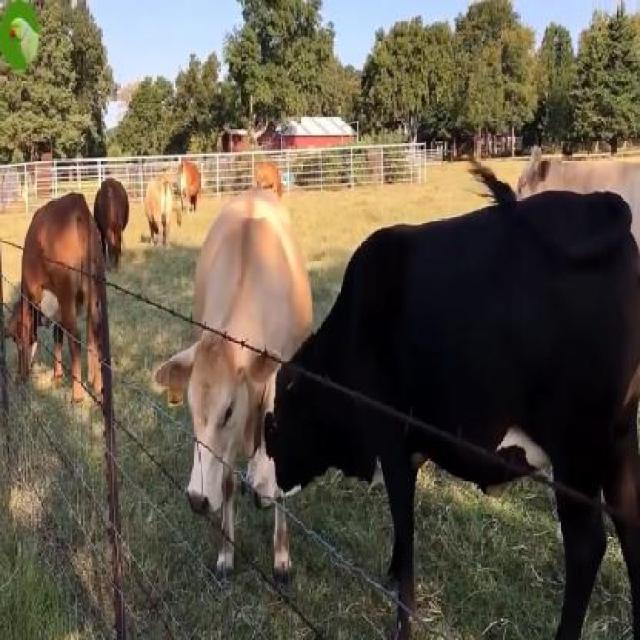Cow: (156, 192, 312, 580)
